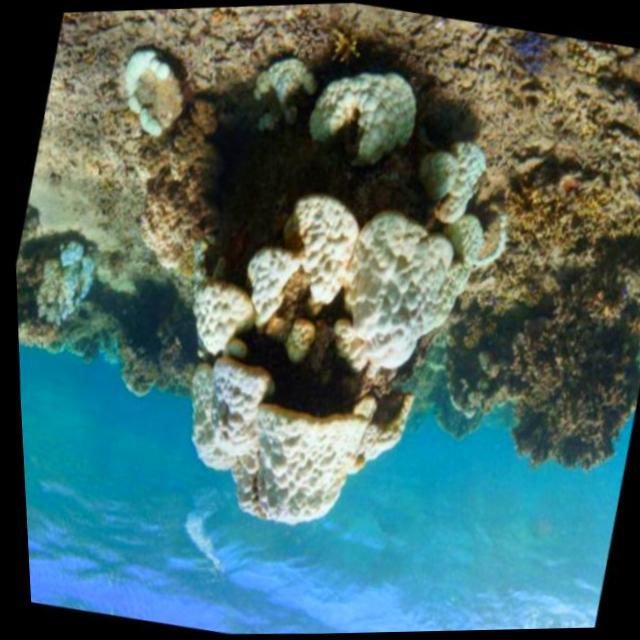Dead Coral: (453, 202, 640, 492)
